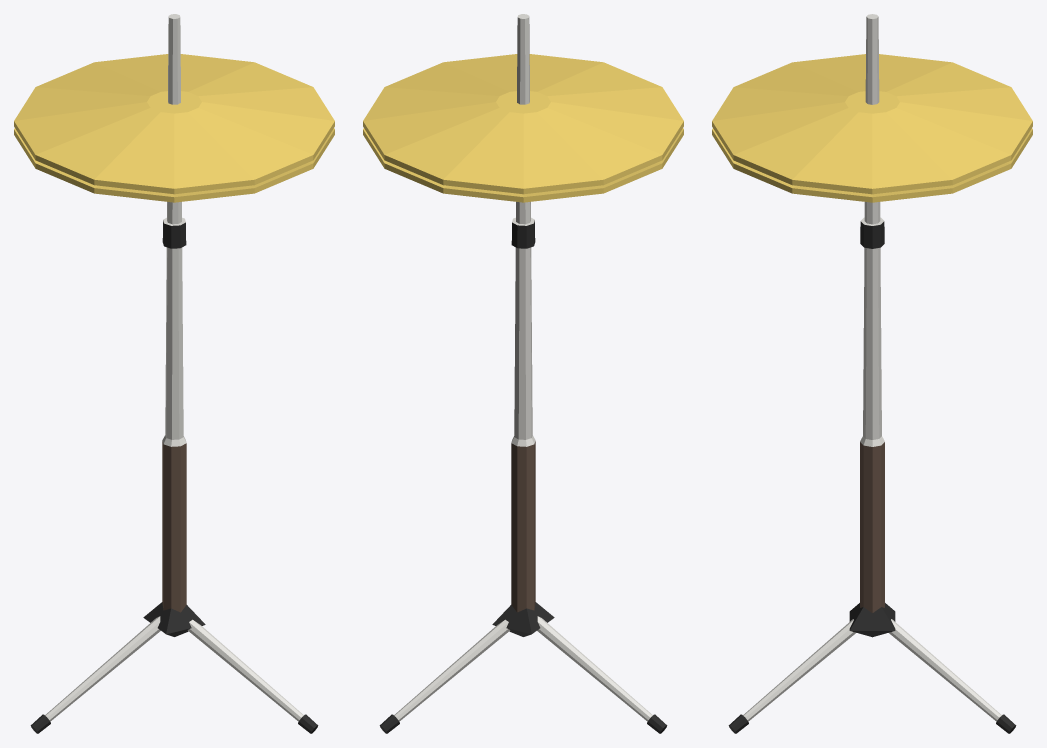
File: drum2.fbx
3 views of the same model, side by side, from view 1: azimuth 30°, elevation 25°; view 2: azimuth 150°, elevation 25°; view 3: azimuth 270°, elevation 25° (orthographic).
Parts seen in each view (by area): view 1: drum2; view 2: drum2; view 3: drum2.
Boxes of the visible parts, x1,y1,x2,y2 form: drum2: (14,14,334,733); drum2: (363,14,683,733); drum2: (712,14,1032,733).
Size of the model in its own units: 15.19 by 15 by 35.24.
